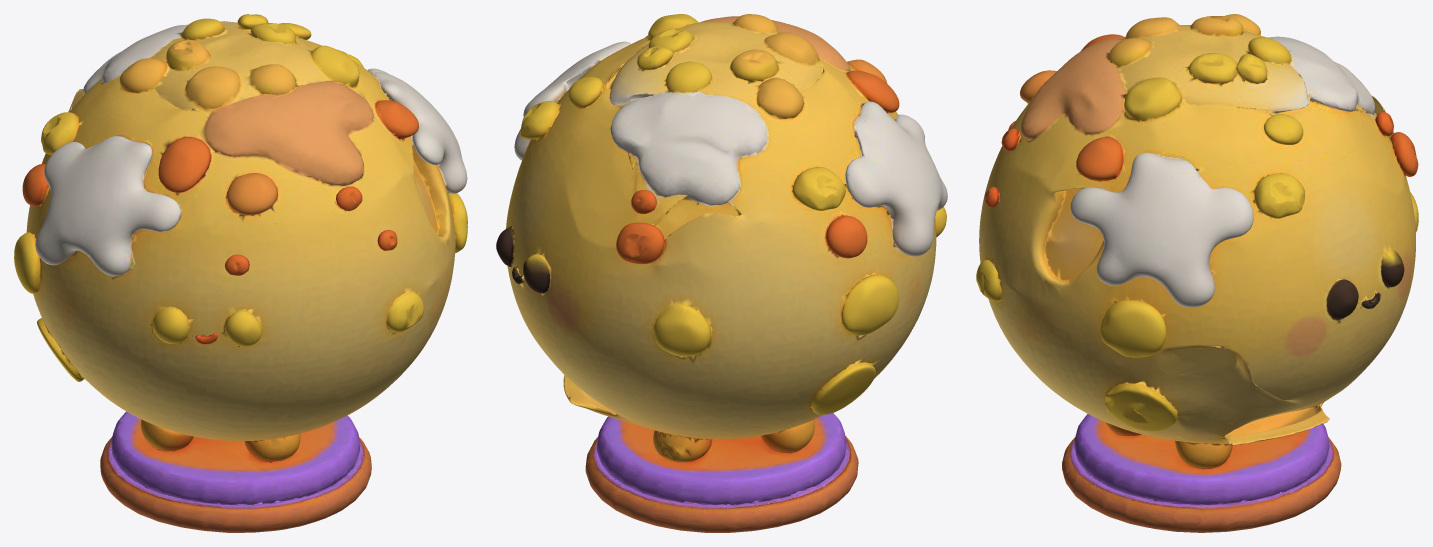
The model's file is env_nest_ball_01.glb.
The picture shows the model from 3 angles, left to right: view 1: azimuth 30°, elevation 25°; view 2: azimuth 150°, elevation 25°; view 3: azimuth 270°, elevation 25°; orthographic projection.
Visible parts, largest first — view 1: tripo_node_be62e1b1-b818-4e20-b320-24308268a29f; view 2: tripo_node_be62e1b1-b818-4e20-b320-24308268a29f; view 3: tripo_node_be62e1b1-b818-4e20-b320-24308268a29f.
Boxes of the visible parts, x1,y1,x2,y2 form: tripo_node_be62e1b1-b818-4e20-b320-24308268a29f: [14, 14, 467, 532]; tripo_node_be62e1b1-b818-4e20-b320-24308268a29f: [496, 14, 947, 532]; tripo_node_be62e1b1-b818-4e20-b320-24308268a29f: [976, 14, 1418, 532].
Size of the model in its own units: 0.7791 by 0.8 by 0.7224.
1 material, 1 textured.
